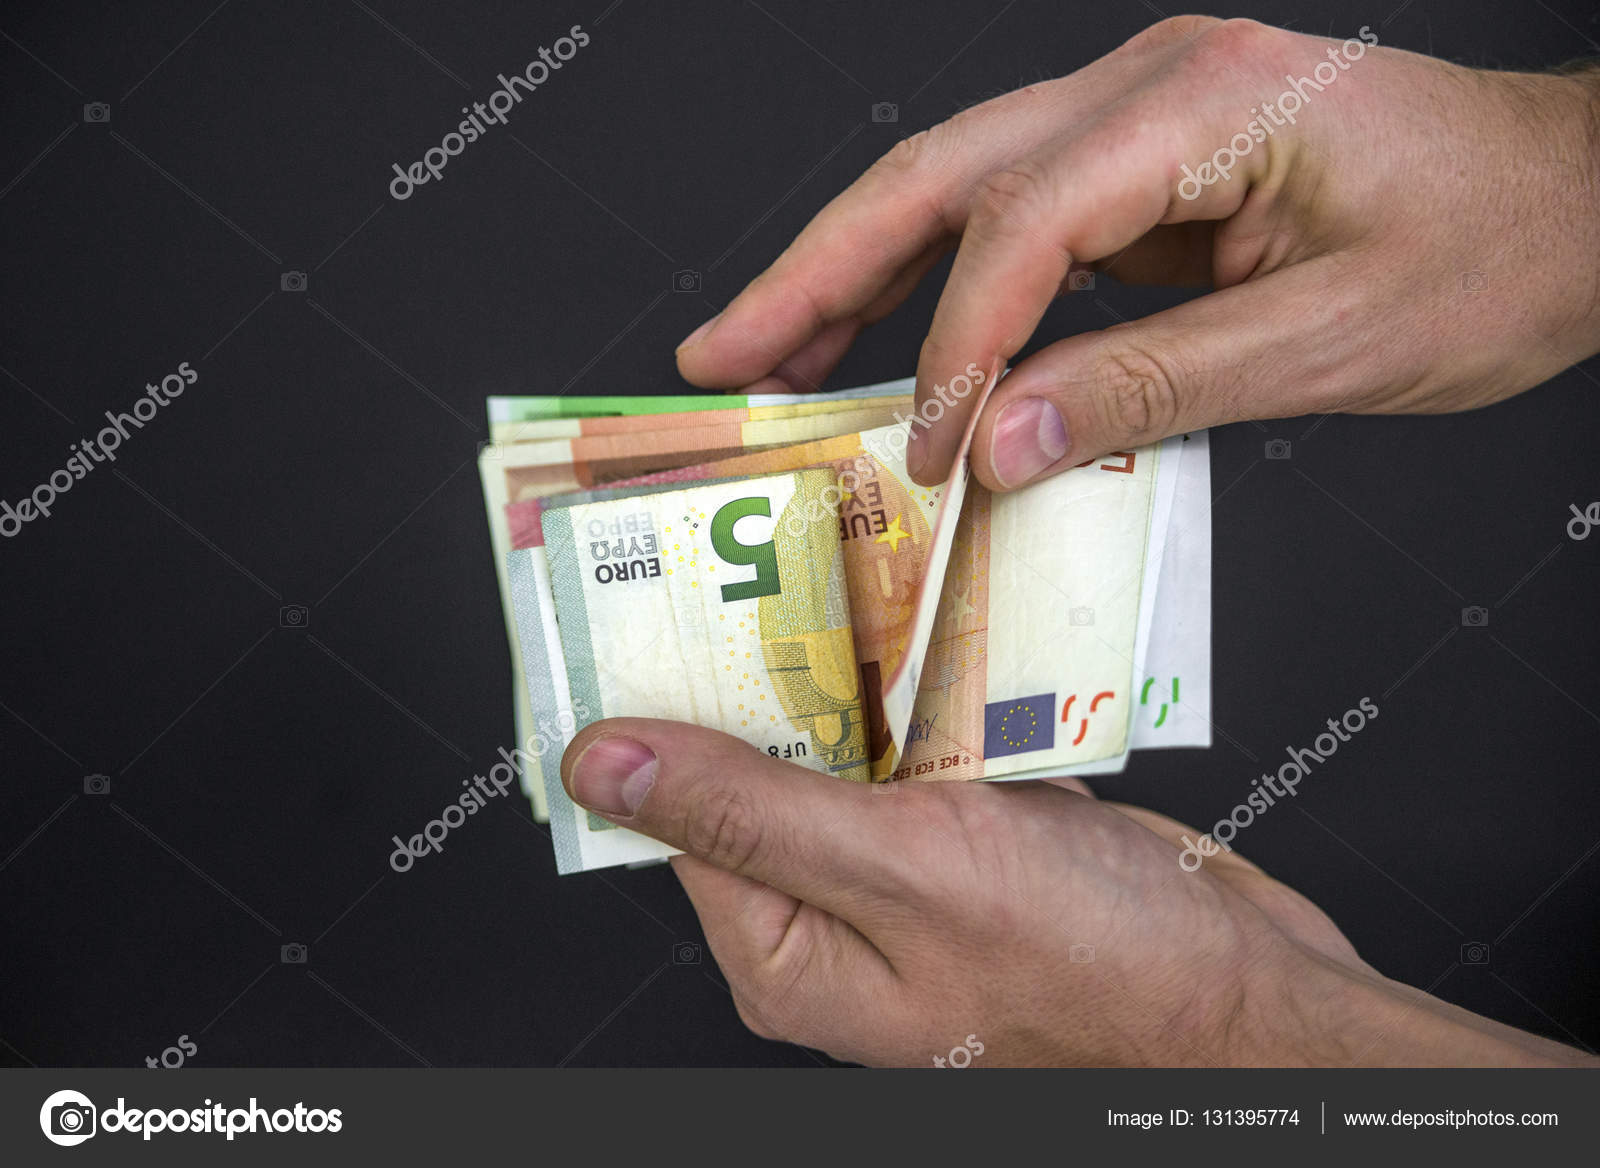billete: (471, 355, 1229, 878)
